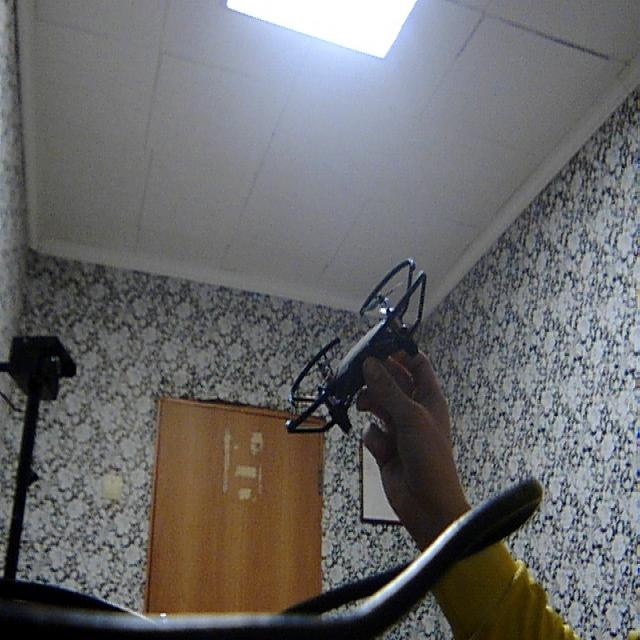drone: (280, 259, 442, 466)
